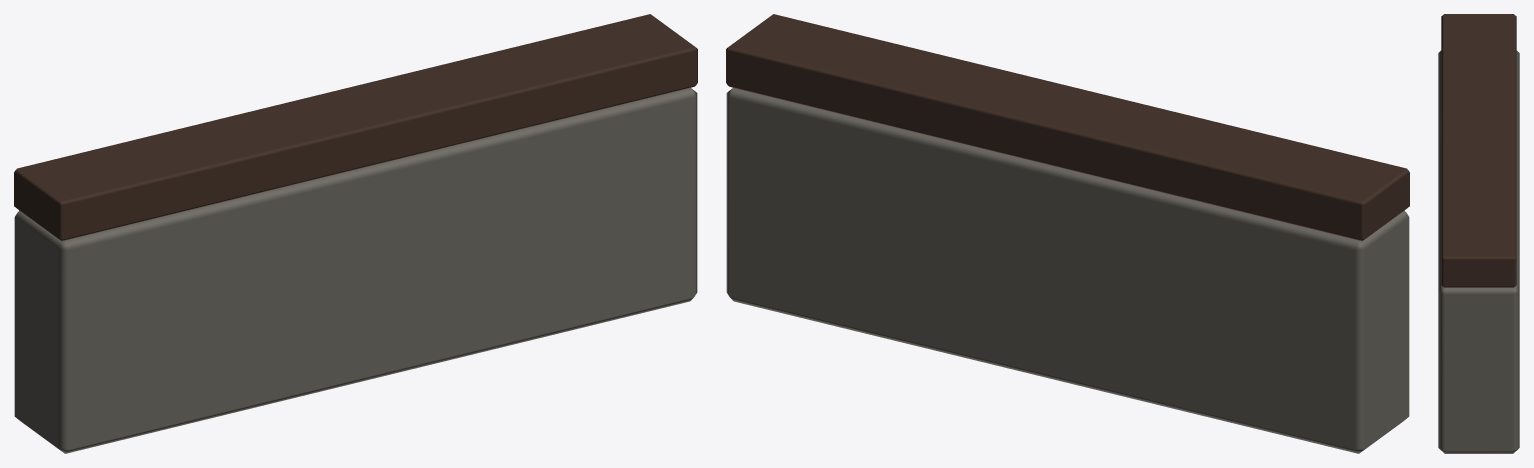
Rendered from village-plinth.3e5cc5ed.glb.
The picture shows the model from 3 angles, left to right: view 1: azimuth 30°, elevation 25°; view 2: azimuth 150°, elevation 25°; view 3: azimuth 270°, elevation 25°; orthographic projection. The views are drawn at different scales.
Parts seen in each view (by area): view 1: body; view 2: body; view 3: body.
Part boxes in pixels (<box>): body: <box>14,14,697,453</box>; body: <box>726,14,1409,453</box>; body: <box>1438,14,1519,453</box>.
Bounding box in the file's own units: 1 × 0.38 × 0.14.
